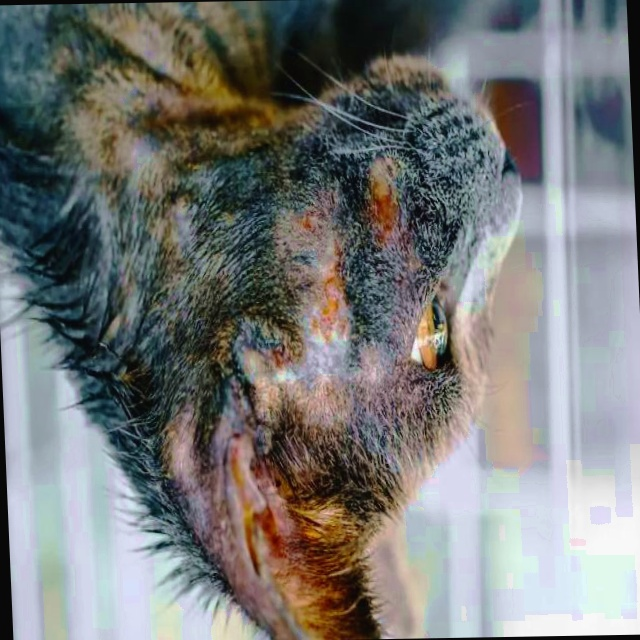ringworm: (306, 251, 356, 382), (235, 340, 300, 393), (364, 183, 398, 244), (293, 214, 323, 243)
